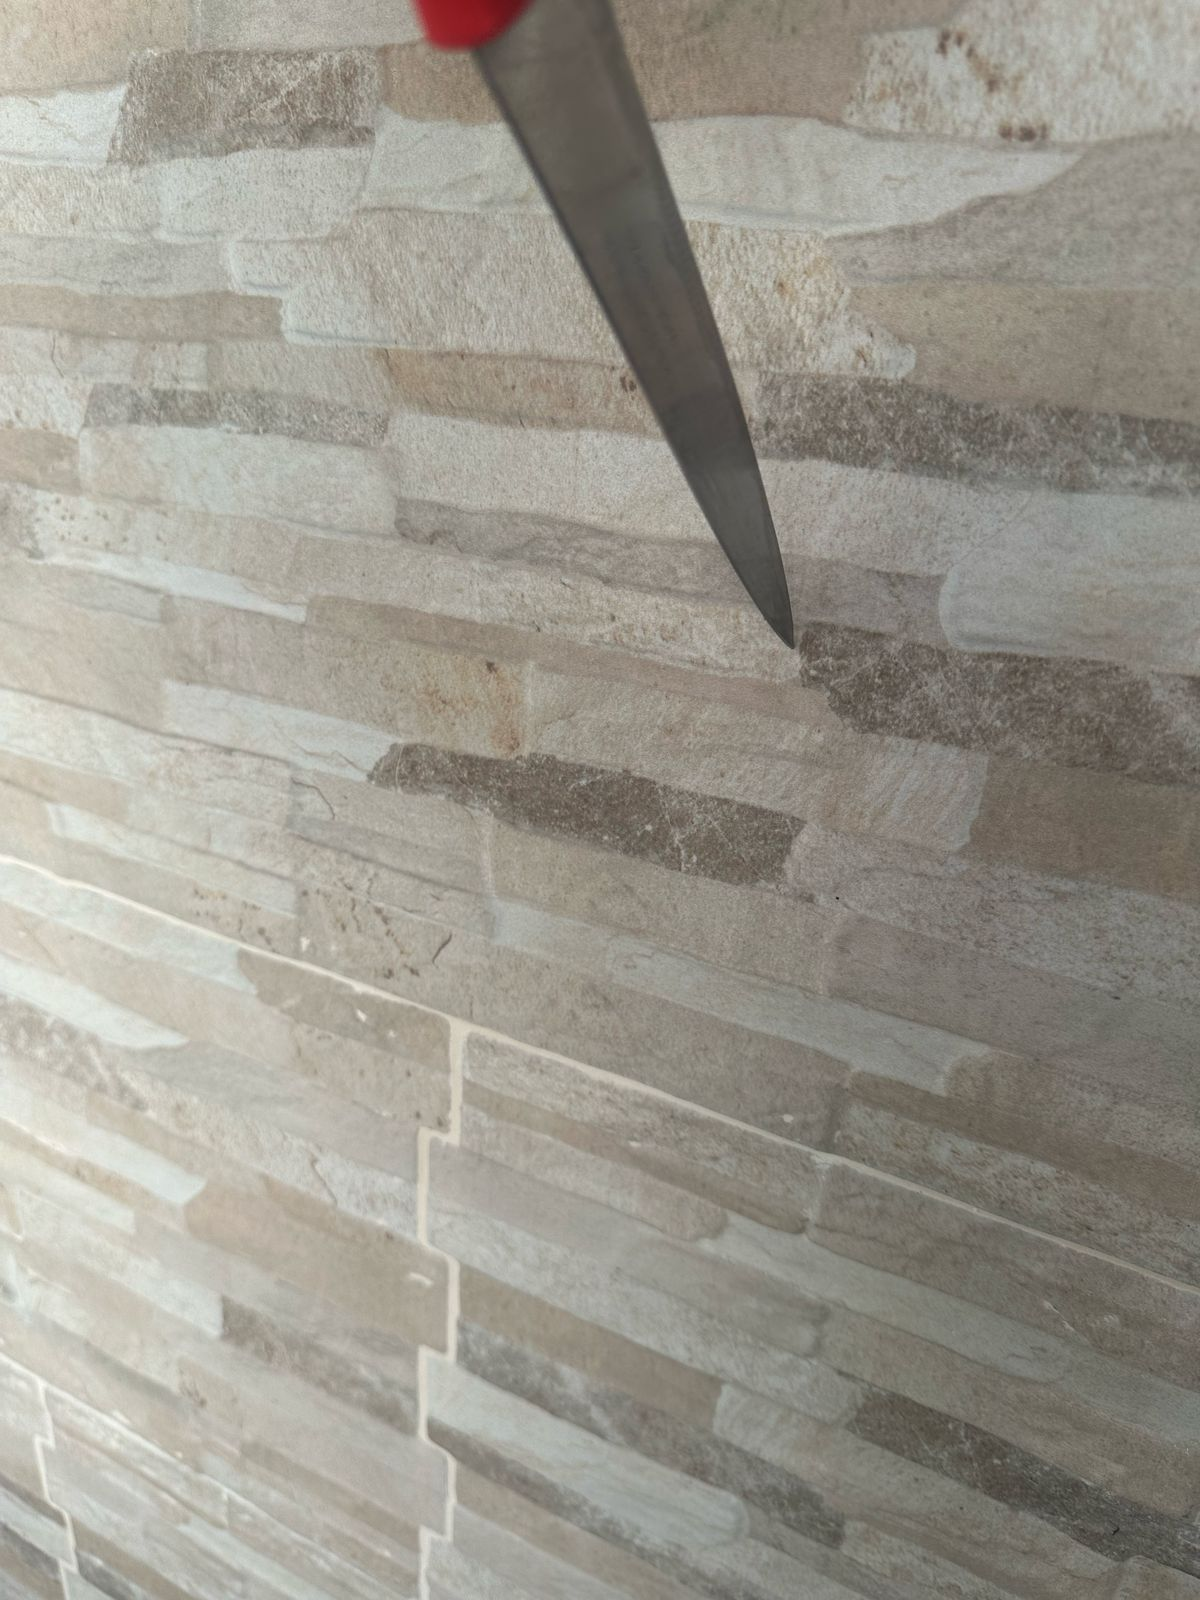faca: (415, 14, 823, 680)
